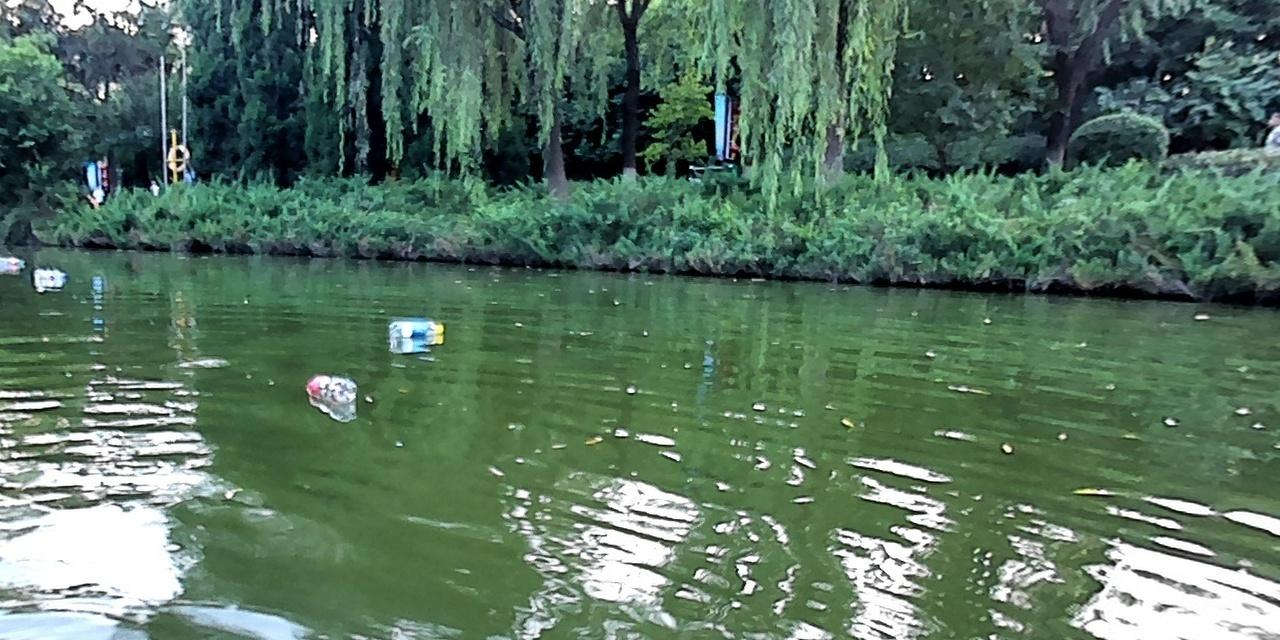bottle: (310, 372, 351, 405), (389, 319, 441, 338), (33, 267, 68, 281), (0, 257, 23, 270)
